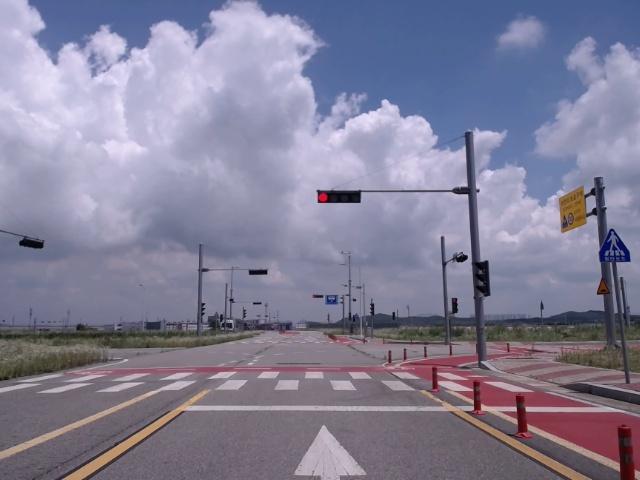red_4: (318, 190, 361, 204)
